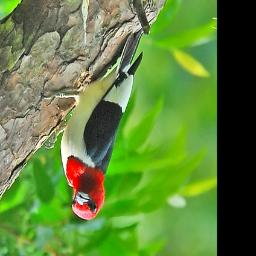Woodpecker: (45, 30, 149, 222)
